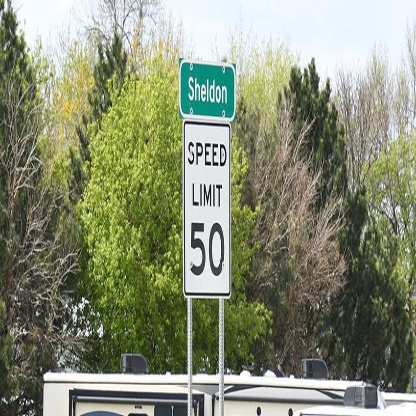limit1: (182, 120, 232, 299)
